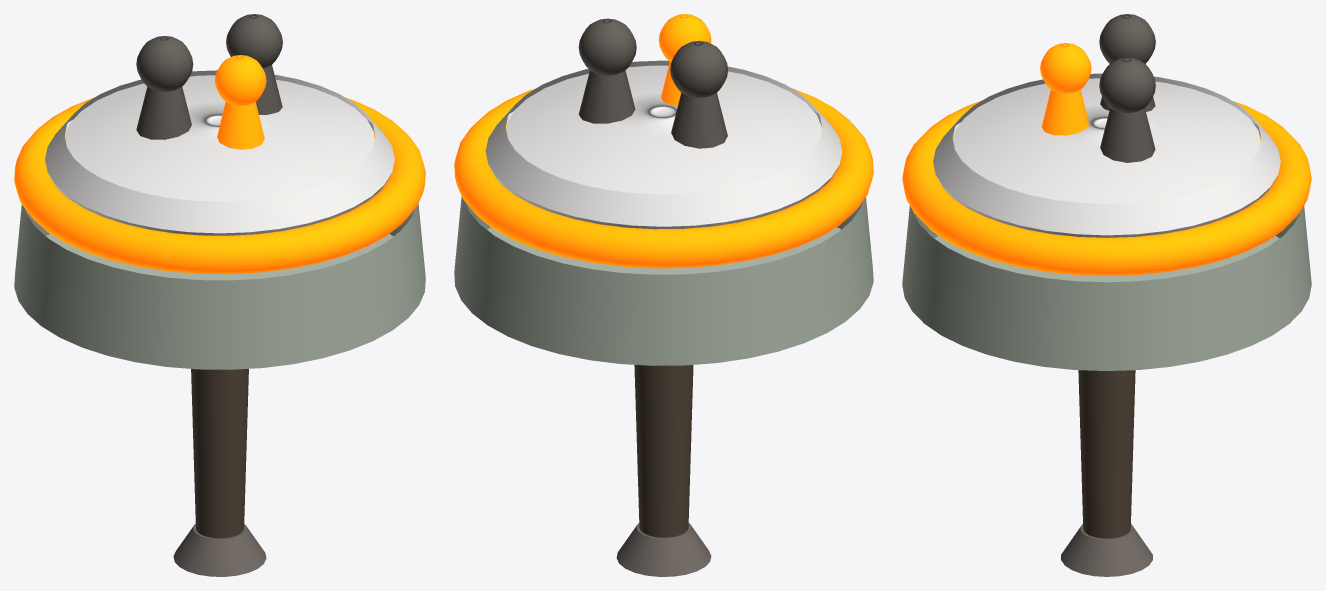
Rendered from poi-meetup.glb.
The picture shows the model from 3 angles, left to right: view 1: azimuth 30°, elevation 25°; view 2: azimuth 150°, elevation 25°; view 3: azimuth 270°, elevation 25°; orthographic projection. The views are drawn at different scales.
Visible parts, largest first — view 1: meetup_head, meetup_plate_dome, meetup_ring, meetup_plate_bevel, meetup_stem, meetup_foot, meetup_a_head, meetup_a_body, meetup_b_head, meetup_c_head, meetup_c_body, meetup_collar (+2 smaller); view 2: meetup_head, meetup_plate_dome, meetup_ring, meetup_plate_bevel, meetup_stem, meetup_foot, meetup_b_head, meetup_a_head, meetup_a_body, meetup_b_body, meetup_c_head, meetup_collar (+1 smaller); view 3: meetup_head, meetup_plate_dome, meetup_ring, meetup_plate_bevel, meetup_stem, meetup_foot, meetup_b_head, meetup_b_body, meetup_a_head, meetup_c_head, meetup_c_body, meetup_collar (+1 smaller).
Part boxes in pixels (bbox=[...]): meetup_head: bbox=[14, 203, 425, 369]; meetup_plate_dome: bbox=[65, 75, 374, 201]; meetup_ring: bbox=[14, 97, 425, 274]; meetup_plate_bevel: bbox=[45, 70, 394, 233]; meetup_stem: bbox=[191, 369, 248, 538]; meetup_foot: bbox=[173, 524, 266, 576]; meetup_a_head: bbox=[136, 36, 193, 91]; meetup_a_body: bbox=[136, 87, 191, 139]; meetup_b_head: bbox=[226, 14, 282, 68]; meetup_c_head: bbox=[215, 55, 266, 105]; meetup_c_body: bbox=[217, 102, 264, 149]; meetup_collar: bbox=[134, 266, 305, 280]; meetup_head: bbox=[454, 197, 873, 365]; meetup_plate_dome: bbox=[506, 65, 821, 194]; meetup_ring: bbox=[454, 88, 873, 268]; meetup_plate_bevel: bbox=[485, 60, 842, 226]; meetup_stem: bbox=[634, 365, 693, 537]; meetup_foot: bbox=[616, 523, 711, 576]; meetup_b_head: bbox=[578, 18, 636, 75]; meetup_a_head: bbox=[670, 41, 727, 97]; meetup_a_body: bbox=[671, 93, 727, 148]; meetup_b_body: bbox=[578, 70, 635, 123]; meetup_c_head: bbox=[658, 14, 711, 62]; meetup_collar: bbox=[576, 260, 751, 274]; meetup_head: bbox=[902, 205, 1311, 370]; meetup_plate_dome: bbox=[953, 78, 1260, 203]; meetup_ring: bbox=[902, 101, 1311, 275]; meetup_plate_bevel: bbox=[933, 73, 1280, 235]; meetup_stem: bbox=[1078, 370, 1135, 538]; meetup_foot: bbox=[1061, 524, 1152, 576]; meetup_b_head: bbox=[1099, 57, 1155, 112]; meetup_b_body: bbox=[1100, 108, 1155, 162]; meetup_a_head: bbox=[1099, 14, 1155, 63]; meetup_c_head: bbox=[1040, 43, 1091, 93]; meetup_c_body: bbox=[1041, 89, 1088, 135]; meetup_collar: bbox=[1021, 268, 1192, 282].
Size of the model in its own units: 0.796 by 1.11 by 0.796.
